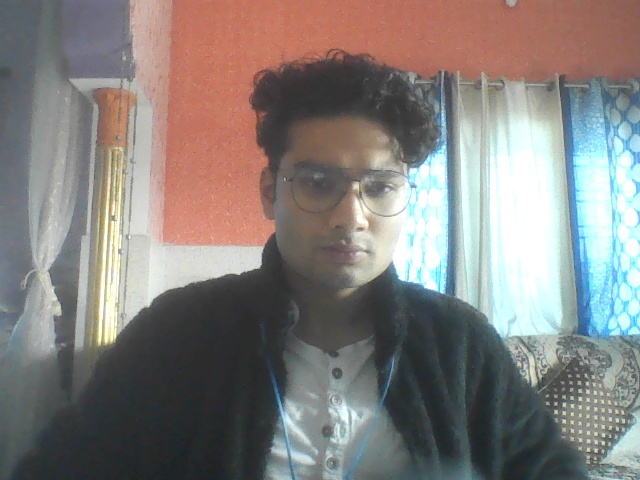real: (251, 62, 423, 306)
